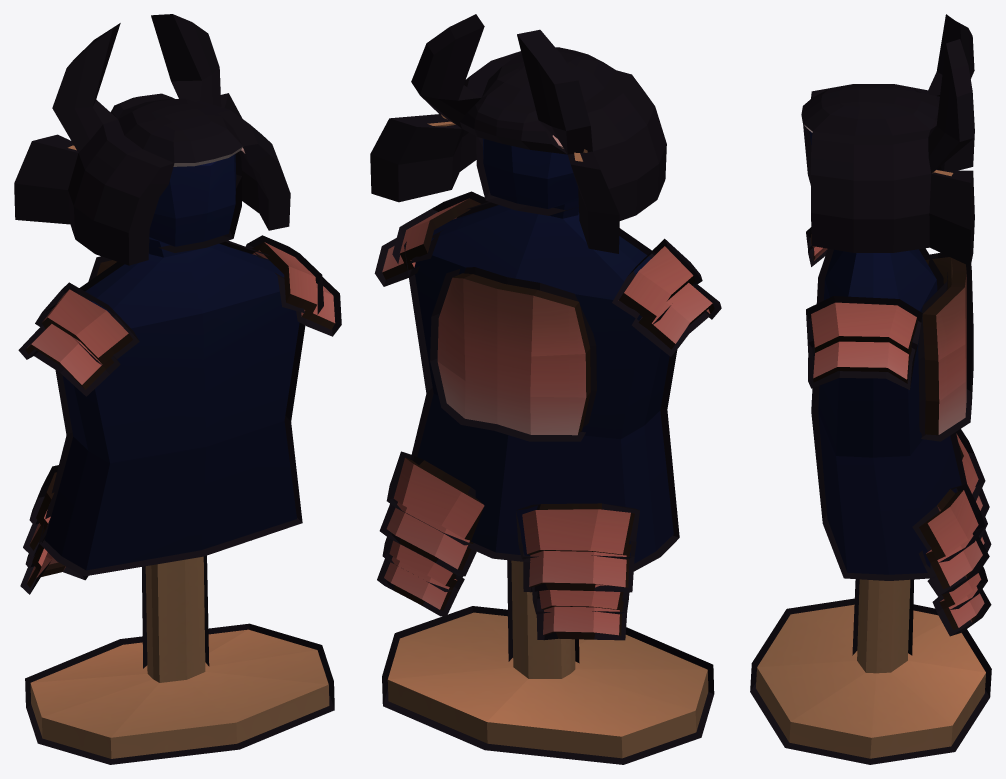
The model's file is Armor.fbx.
The picture shows the model from 3 angles, left to right: view 1: azimuth 30°, elevation 25°; view 2: azimuth 150°, elevation 25°; view 3: azimuth 270°, elevation 25°; orthographic projection. The views are drawn at different scales.
Visible parts, largest first — view 1: Cube.005; view 2: Cube.005; view 3: Cube.005.
Part boxes in pixels (x1,y1,x2,y2): Cube.005: (14, 14, 341, 764); Cube.005: (370, 14, 721, 764); Cube.005: (750, 14, 991, 764).
Size of the model in its own units: 223 by 489 by 158.
Materials: 2 (1 with a texture image).
